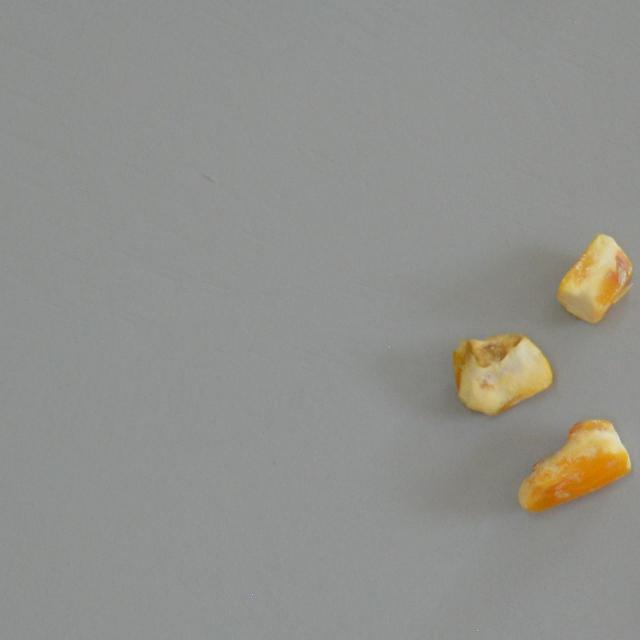dañado: (440, 324, 558, 420), (514, 417, 632, 513), (552, 230, 640, 326)
